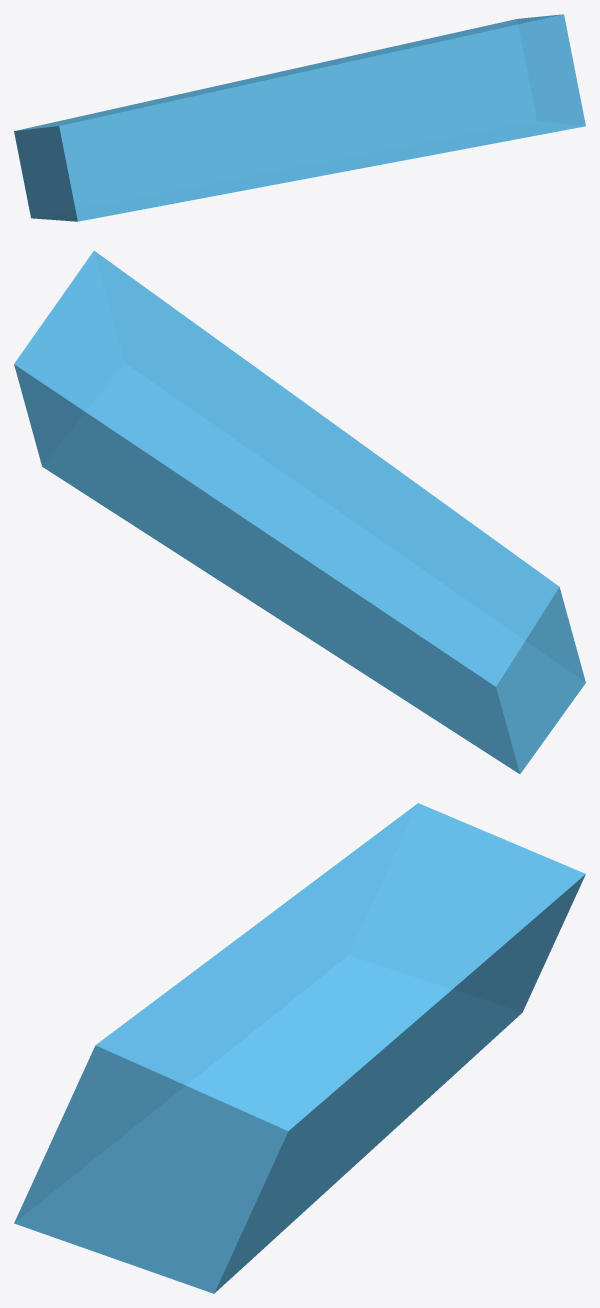
File: Event_421115418_HErechit_40.fbx
The picture shows the model from 3 angles, top to bottom: view 1: azimuth 30°, elevation 25°; view 2: azimuth 150°, elevation 25°; view 3: azimuth 270°, elevation 25°; orthographic projection. The views are drawn at different scales.
Parts seen in each view (by area): view 1: Model; view 2: Model; view 3: Model.
Part boxes in pixels (x1,y1,x2,y2): Model: [14, 14, 585, 221]; Model: [14, 250, 585, 773]; Model: [14, 803, 585, 1293].
Size of the model in its own units: 1.76 by 0.7409 by 1.11.
